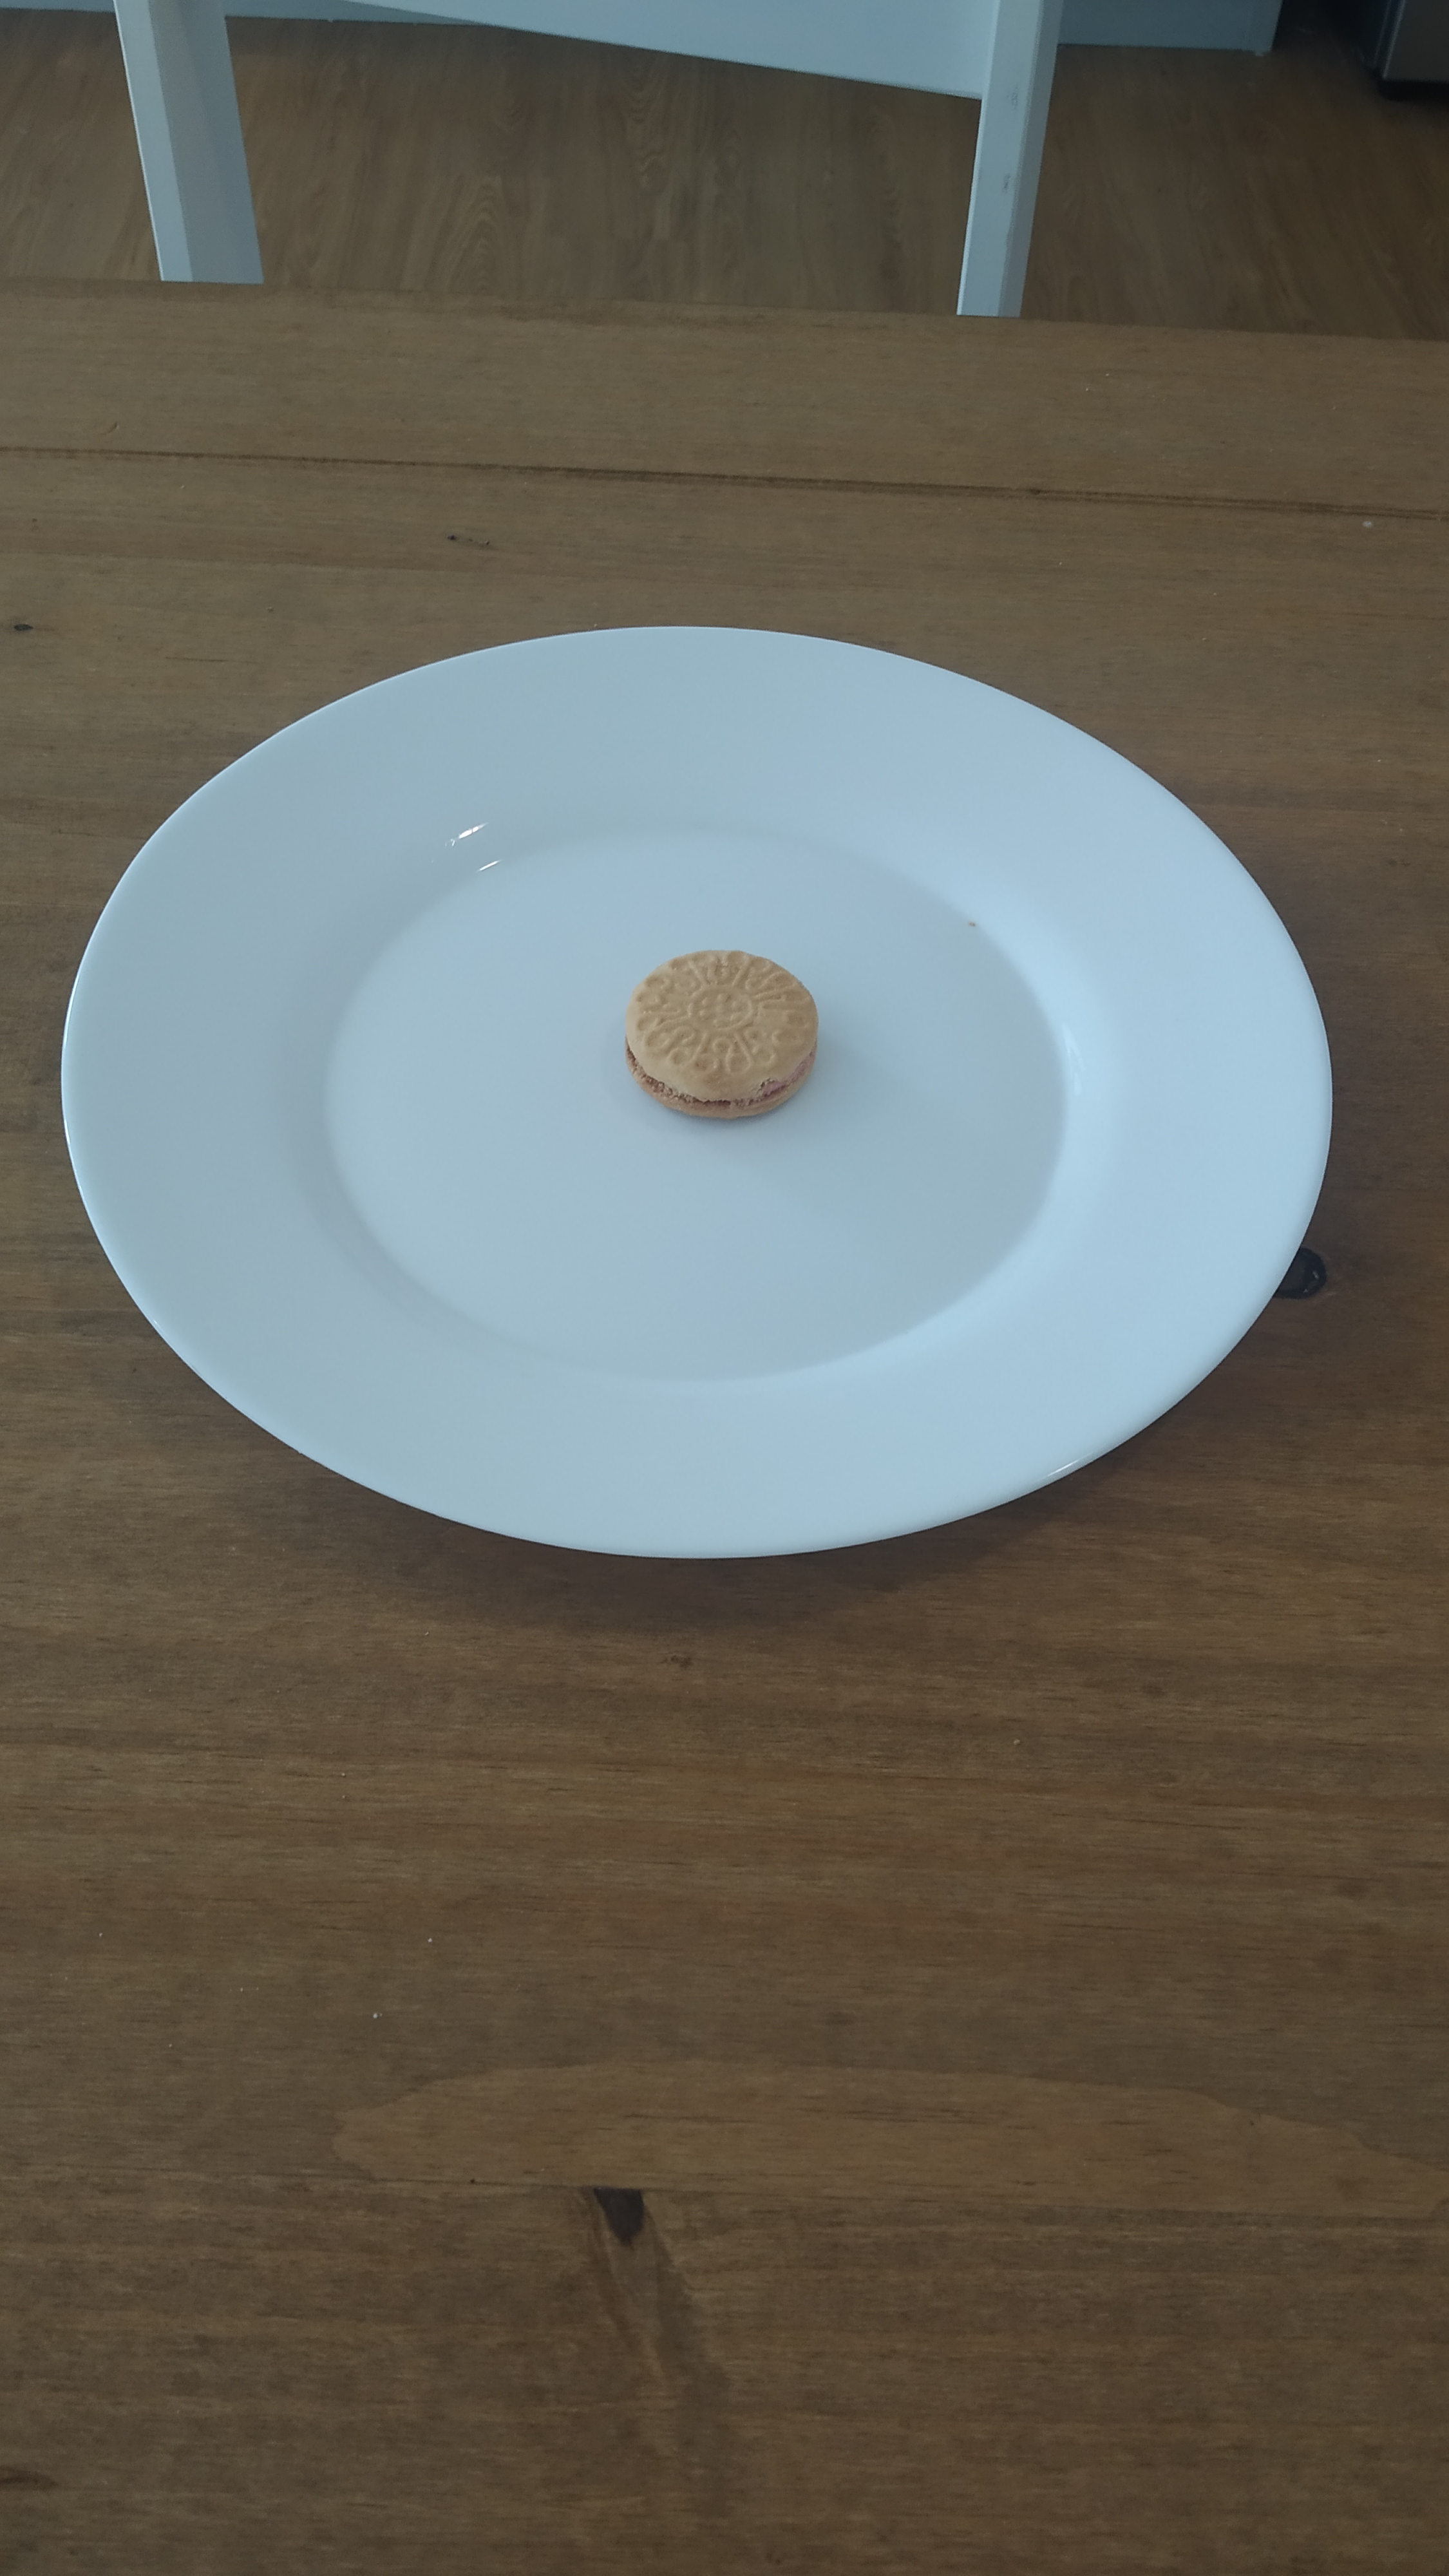lulu: (626, 950, 821, 1120)
